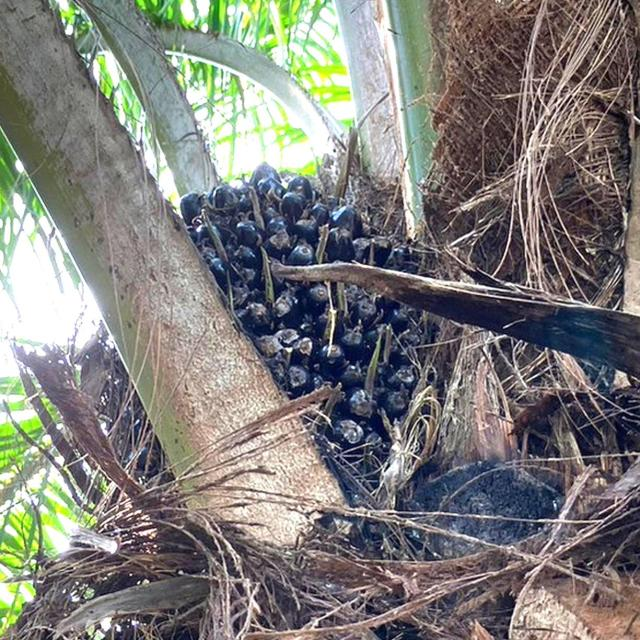unripe: (186, 166, 428, 495)
